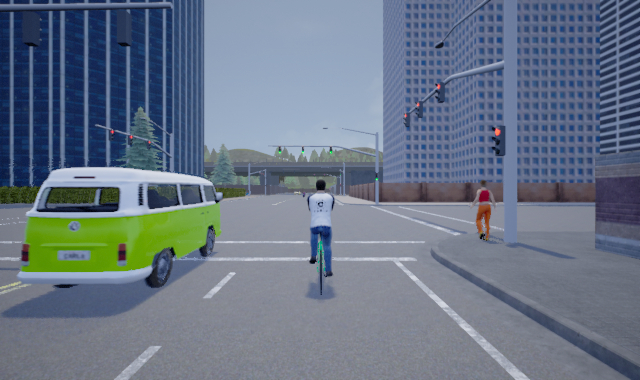bike: (307, 179, 335, 297)
pedestrian: (469, 180, 495, 241)
traffic_light: (490, 123, 507, 157), (433, 80, 446, 104), (414, 98, 424, 118), (402, 111, 410, 131), (128, 133, 135, 147), (276, 144, 284, 155), (145, 138, 152, 150), (108, 128, 114, 141), (328, 144, 333, 155), (375, 171, 379, 184), (300, 145, 305, 155)
vehicle: (17, 167, 221, 287)
